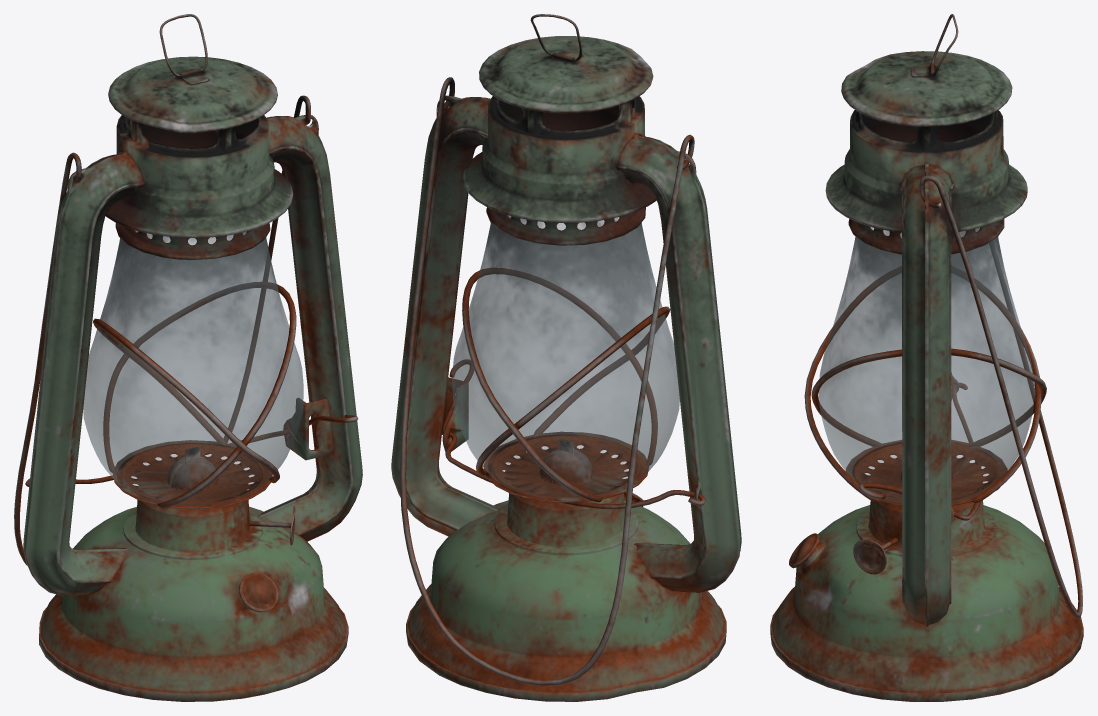
File: lantern.glb
3 renders of one model, left to right at view 1: azimuth 30°, elevation 25°; view 2: azimuth 150°, elevation 25°; view 3: azimuth 270°, elevation 25°, orthographic. The views are drawn at different scales.
Visible parts, largest first — view 1: BezierCurve.003; view 2: BezierCurve.003; view 3: BezierCurve.003.
Part boxes in pixels (x1,y1,x2,y2): BezierCurve.003: [14, 14, 362, 701]; BezierCurve.003: [391, 14, 741, 701]; BezierCurve.003: [770, 14, 1083, 701].
Bounding box in the file's own units: 35.7 × 61.93 × 28.56.
Materials: 1 (1 with a texture image).
